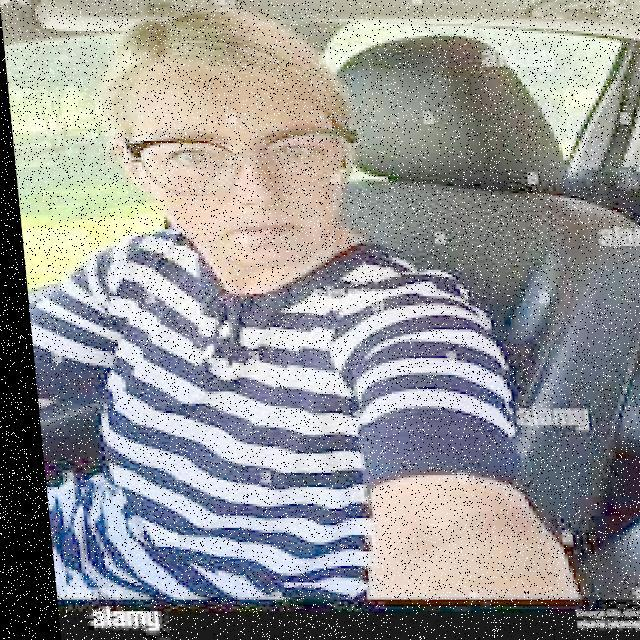noSeatbelt: (18, 230, 416, 592)
